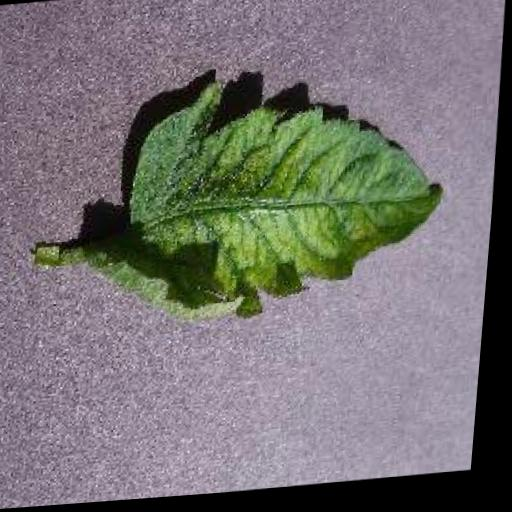Mosaic Virus: (128, 68, 458, 337)
